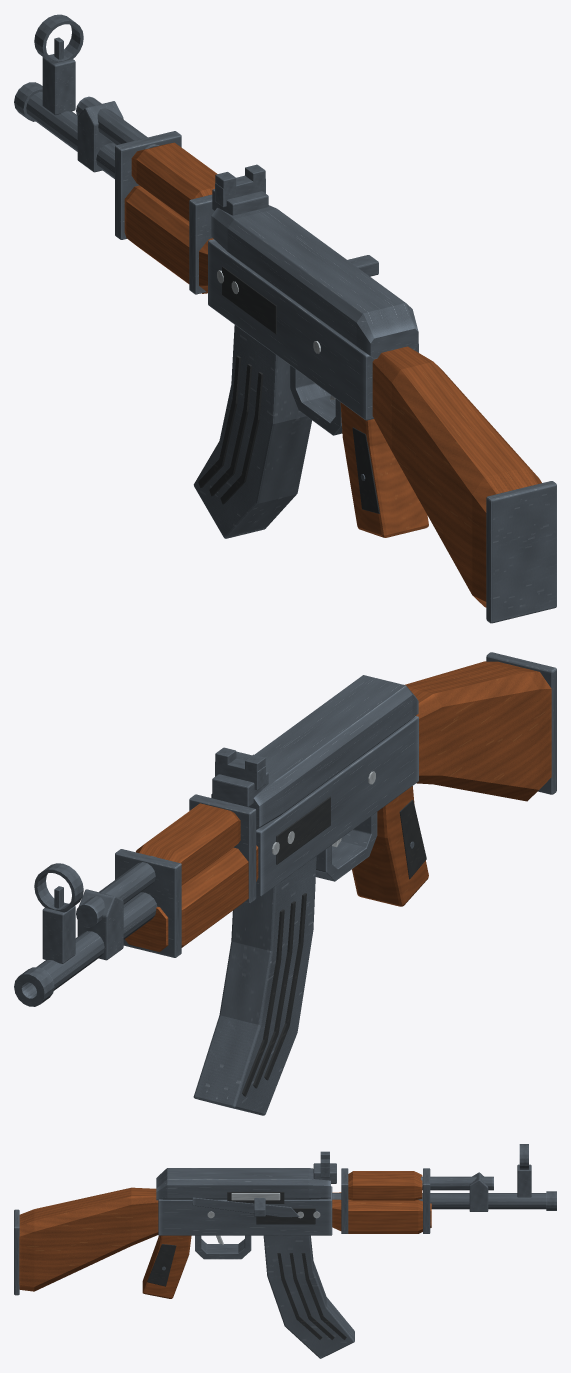
3 views of the same model, one above another, from view 1: azimuth 30°, elevation 25°; view 2: azimuth 150°, elevation 25°; view 3: azimuth 270°, elevation 25° (orthographic). The views are drawn at different scales.
Visible parts, largest first — view 1: ak47_Body, ak47_Magazine; view 2: ak47_Body, ak47_Magazine; view 3: ak47_Body, ak47_Magazine, ak47_Bolt.
Part boxes in pixels (x1,y1,x2,y2): ak47_Body: (14,14,556,623); ak47_Magazine: (193,325,311,538); ak47_Body: (14,652,556,1006); ak47_Magazine: (193,856,316,1115); ak47_Body: (14,1144,556,1298); ak47_Magazine: (263,1235,354,1358); ak47_Bolt: (231,1193,280,1216).
Bounding box in the file's own units: 0.1677 × 0.566 × 1.34.
4 materials, 4 textured.
